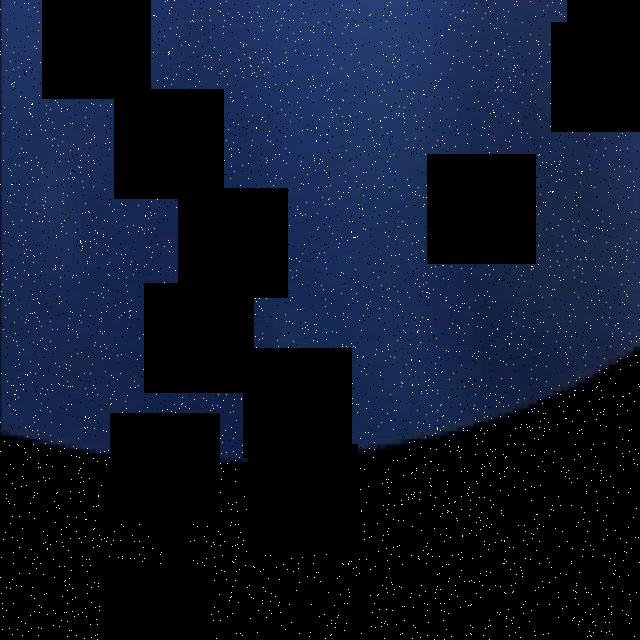Neptune: (0, 1, 640, 467)
